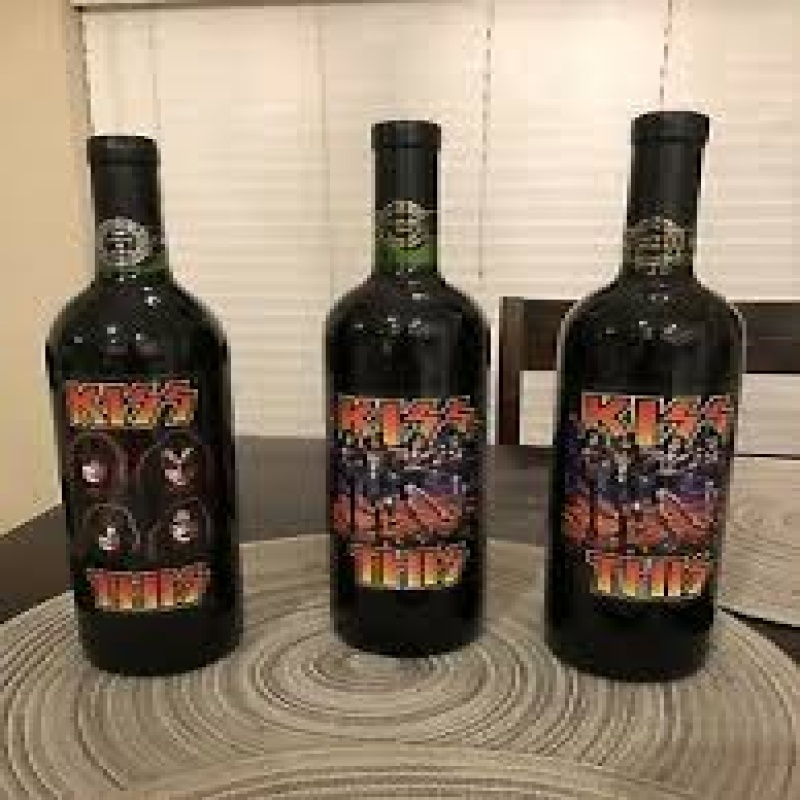wine: (45, 138, 247, 675), (564, 110, 723, 689), (333, 121, 482, 650)
